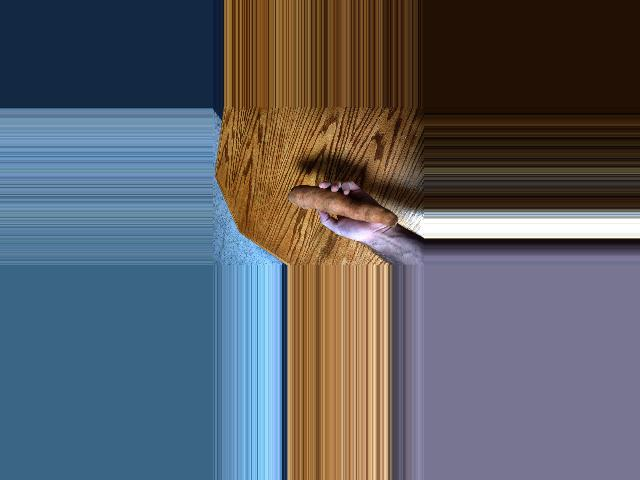sweet_potato: (285, 183, 393, 223)
